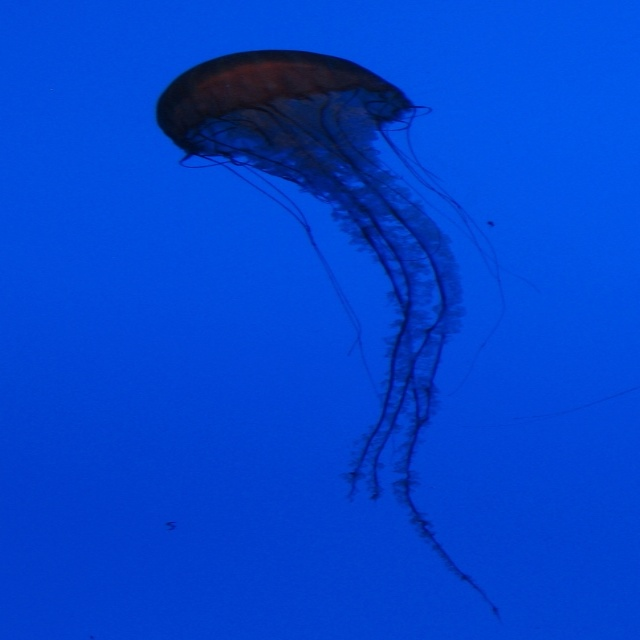Jellyfish: (156, 50, 640, 624)
